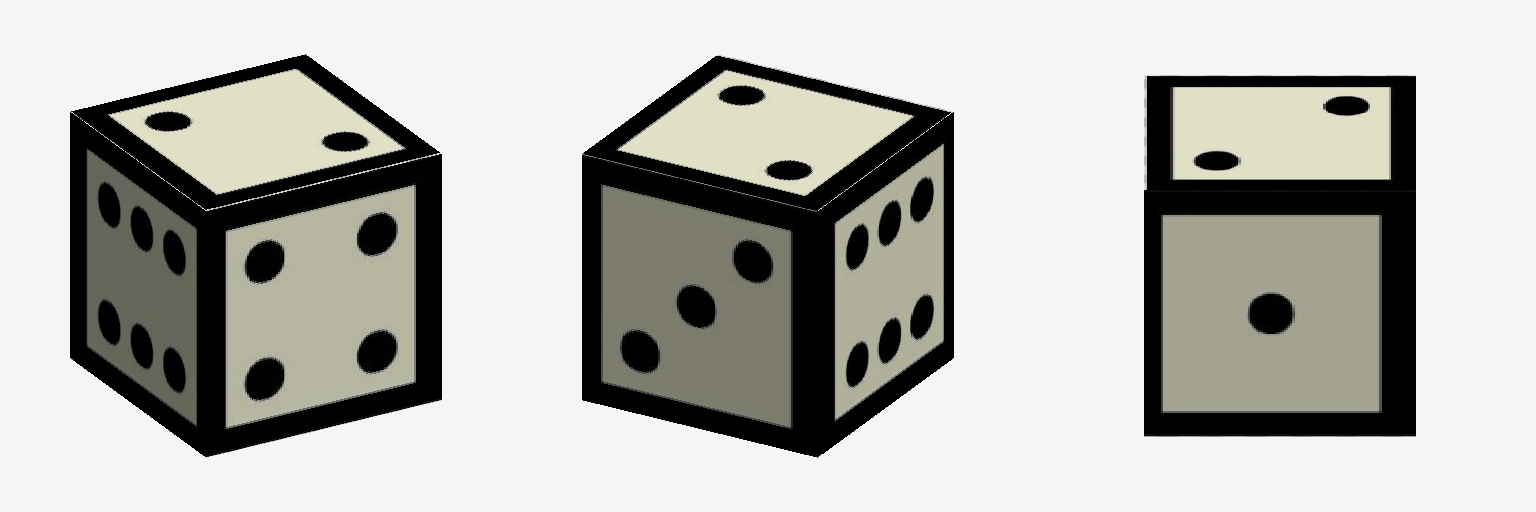
3 views of the same model, side by side, from view 1: azimuth 30°, elevation 25°; view 2: azimuth 150°, elevation 25°; view 3: azimuth 270°, elevation 25° (orthographic).
Visible parts, largest first — view 1: Cube; view 2: Cube; view 3: Cube.
Part boxes in pixels (left/top/right/bottom): Cube: left=70, top=54, right=441, bottom=457; Cube: left=582, top=54, right=953, bottom=457; Cube: left=1144, top=75, right=1415, bottom=436.
Bounding box in the file's own units: 2 × 2 × 2.
Materials: 1 (1 with a texture image).